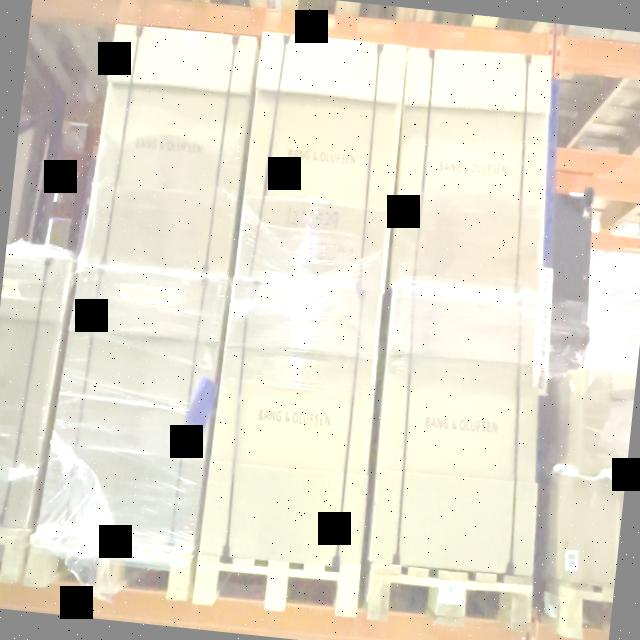box: (204, 283, 381, 564), (48, 263, 223, 544), (368, 284, 534, 568), (238, 32, 404, 294), (86, 23, 256, 276), (388, 42, 553, 294)
